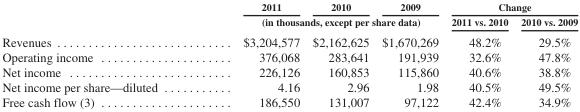table: (1, 0, 577, 108)
table column: (1, 0, 199, 108), (199, 0, 305, 108), (374, 0, 444, 108), (305, 0, 374, 108), (444, 0, 513, 108), (513, 0, 577, 108)
table column header: (1, 0, 577, 30)
table row: (1, 30, 577, 48), (1, 14, 577, 30), (1, 63, 577, 79), (1, 48, 577, 63), (1, 79, 577, 94), (1, 0, 577, 14), (1, 94, 577, 108)
table spanning cell: (199, 14, 444, 30), (444, 0, 577, 14)
